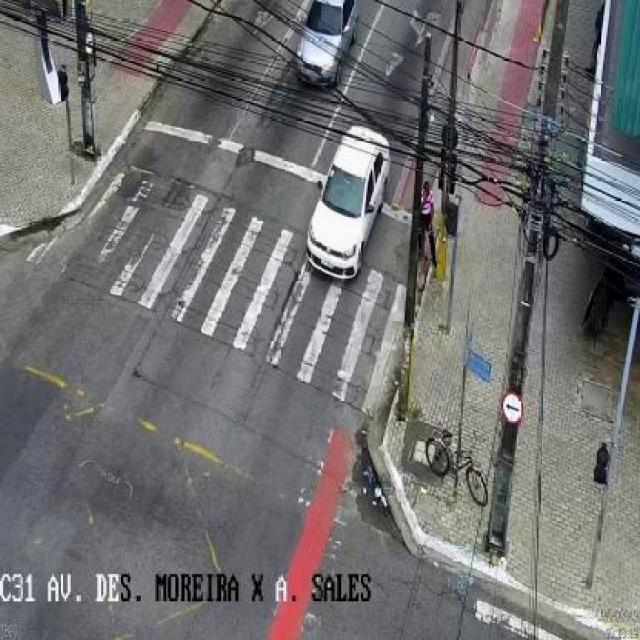Car: (301, 125, 394, 302), (292, 4, 366, 95)
